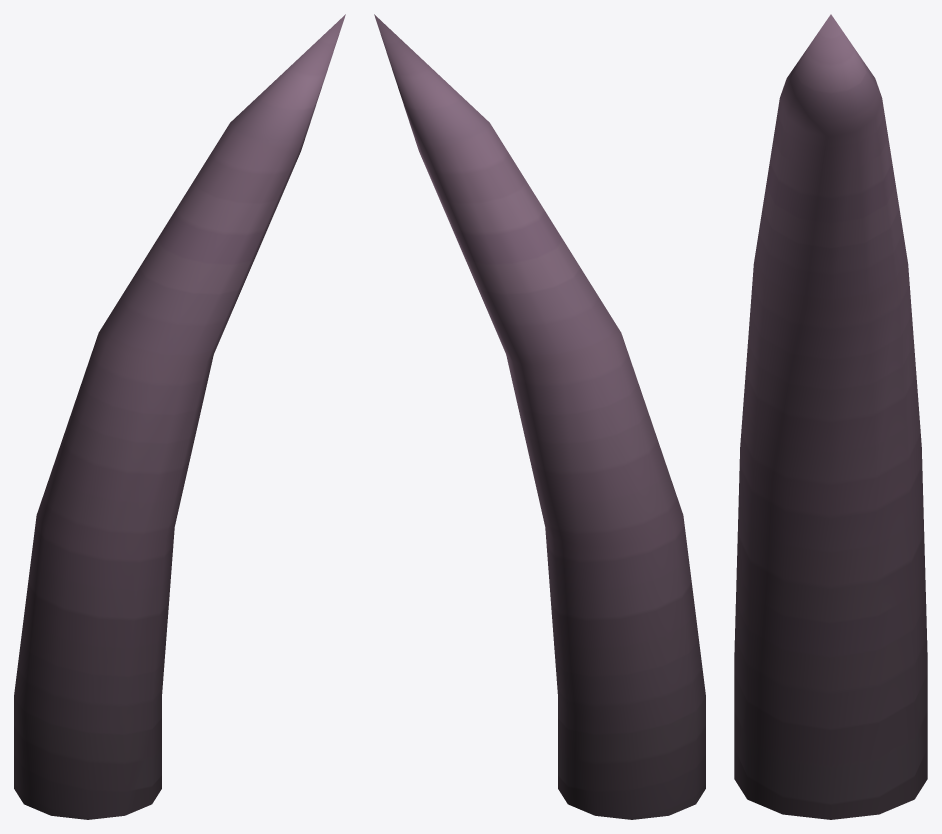
Rendered from SM_Big_Rib.fbx.
The picture shows the model from 3 angles, left to right: view 1: azimuth 30°, elevation 25°; view 2: azimuth 150°, elevation 25°; view 3: azimuth 270°, elevation 25°; orthographic projection. The views are drawn at different scales.
Visible parts, largest first — view 1: Big_Rib; view 2: Big_Rib; view 3: Big_Rib.
Part boxes in pixels (left/top/right/bottom): Big_Rib: left=14, top=14, right=345, bottom=819; Big_Rib: left=374, top=14, right=705, bottom=819; Big_Rib: left=734, top=14, right=927, bottom=819.
Bounding box in the file's own units: 20.42 × 43.12 × 8.13.
1 material, 1 textured.
